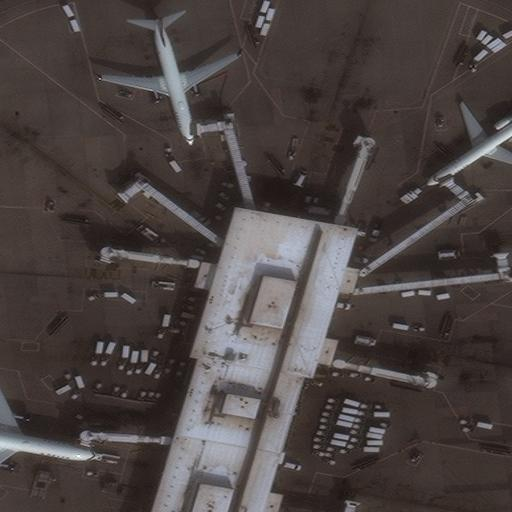Large Civil Transport: (0, 370, 103, 488)
Medium Civil Transport: (101, 17, 243, 147), (426, 104, 511, 185)
